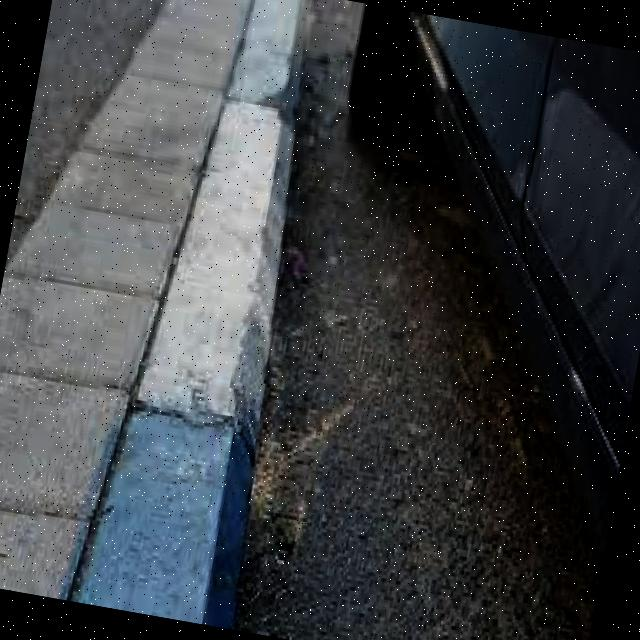curb: (68, 1, 310, 631)
